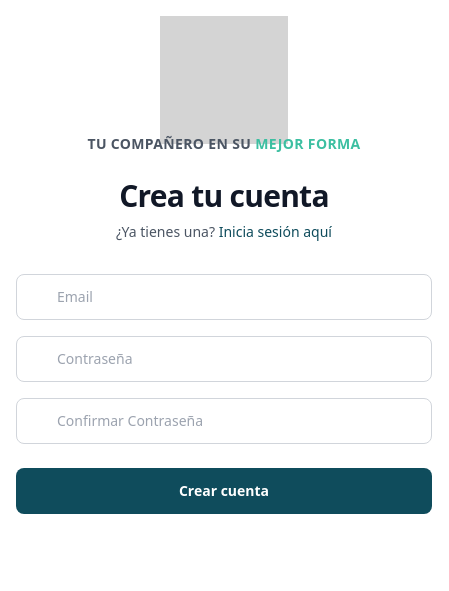
Scenario: RegisterPage - HU1: Registro de Usuario › muestra error si el email está vacío
What coordinates should you click on to do the following:
click the button "Crear cuenta"
I would click on:
 (224, 491)
Its box is [16,468,432,514].
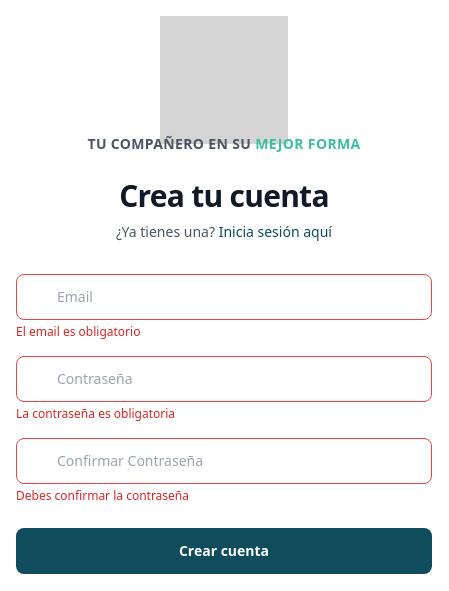
Now the text "El email es obligatorio" is shown, box [16,323,140,340]
